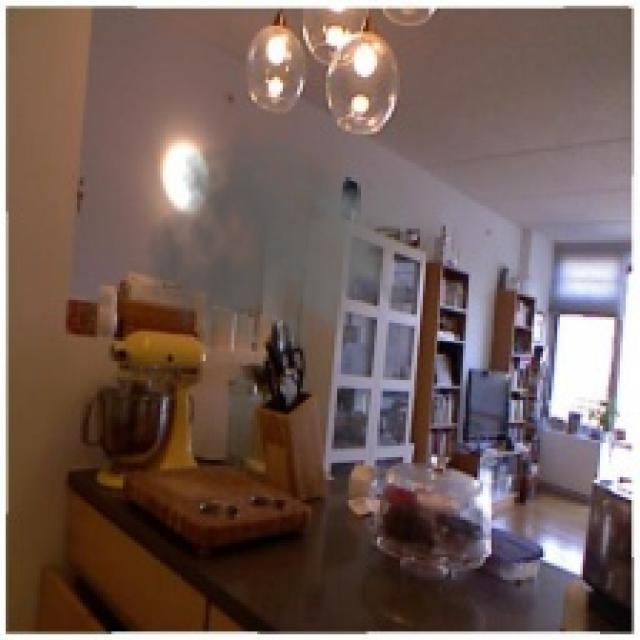Smoke: (146, 122, 406, 378)
